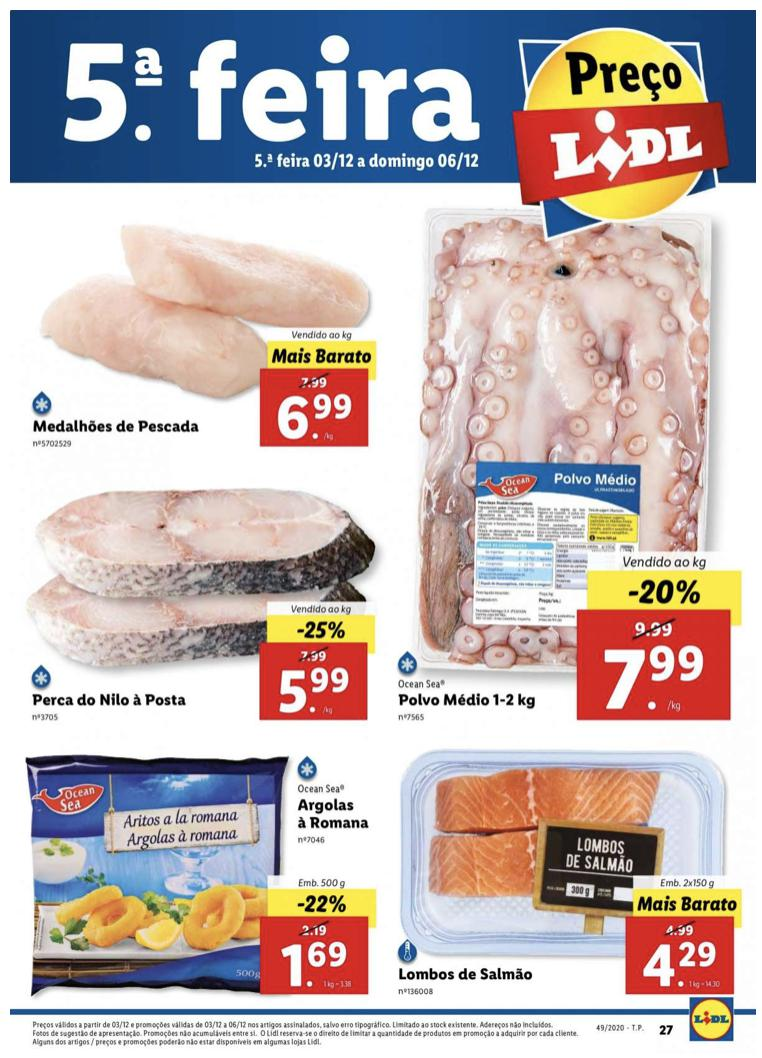name: (31, 414, 203, 437), (396, 687, 540, 713), (395, 963, 539, 988), (29, 689, 190, 710), (295, 795, 371, 830)
price: (596, 642, 708, 712), (274, 389, 358, 441), (278, 935, 352, 992), (277, 662, 356, 714), (639, 937, 718, 989)
product: (381, 199, 752, 735), (20, 743, 390, 1005), (14, 476, 389, 730), (11, 206, 389, 454), (389, 739, 745, 1000)
promotion: (624, 571, 703, 612), (291, 617, 350, 643), (293, 891, 350, 916)
